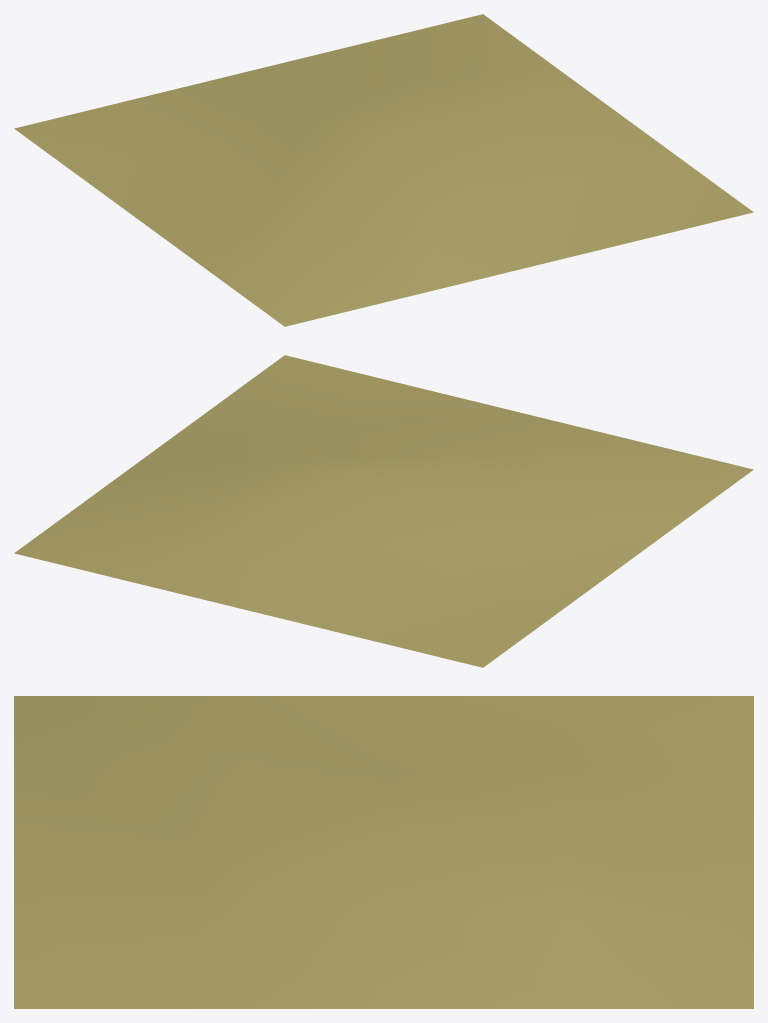
Rendered from Sand.fbx.
3 renders of one model, top to bottom at view 1: azimuth 30°, elevation 25°; view 2: azimuth 150°, elevation 25°; view 3: azimuth 270°, elevation 25°, orthographic. The views are drawn at different scales.
Visible parts, largest first — view 1: pPlane1; view 2: pPlane1; view 3: pPlane1.
Boxes of the visible parts, box(x1,y1,x2,y2) form: pPlane1: box(14, 14, 753, 326); pPlane1: box(14, 355, 753, 667); pPlane1: box(14, 696, 753, 1008).
Bounding box in the file's own units: 0.06 × 0.00416 × 0.06.
